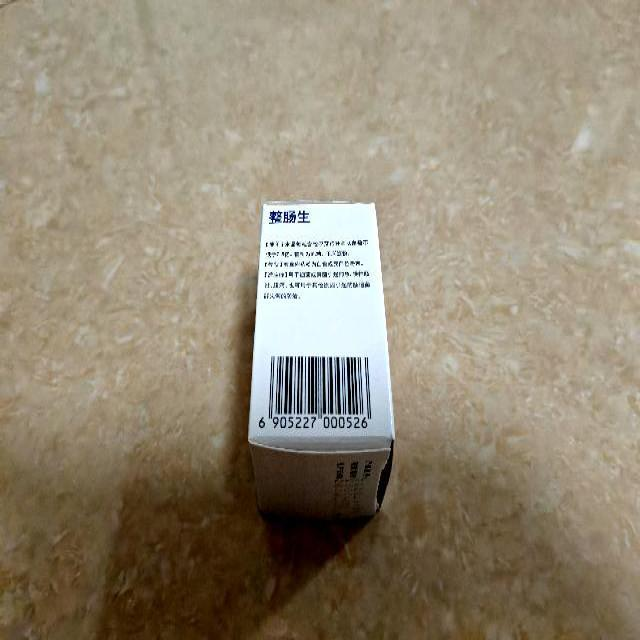box: (247, 200, 397, 518)
